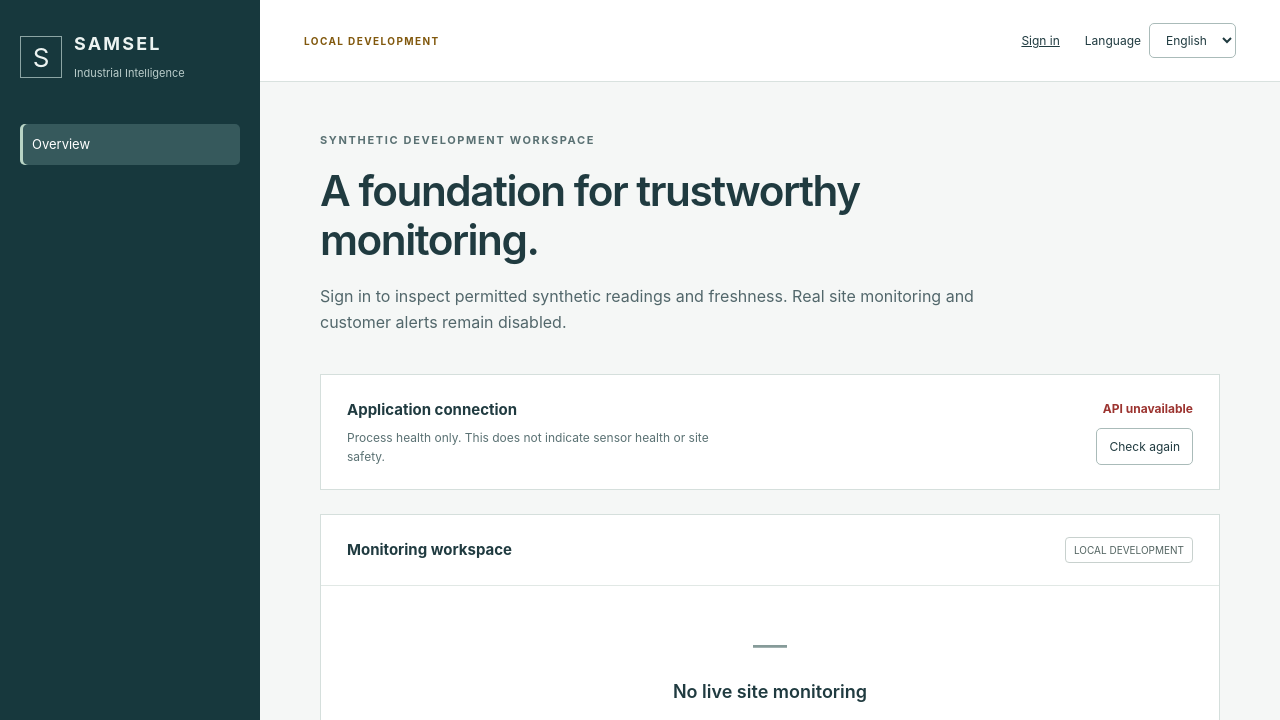
Scenario: network failure is explicit and retryable
Check: the text "API unavailable" is shown, box [1103,399,1193,418]
Click the button "Check again" at (1145, 446), box [1096,428,1193,465]
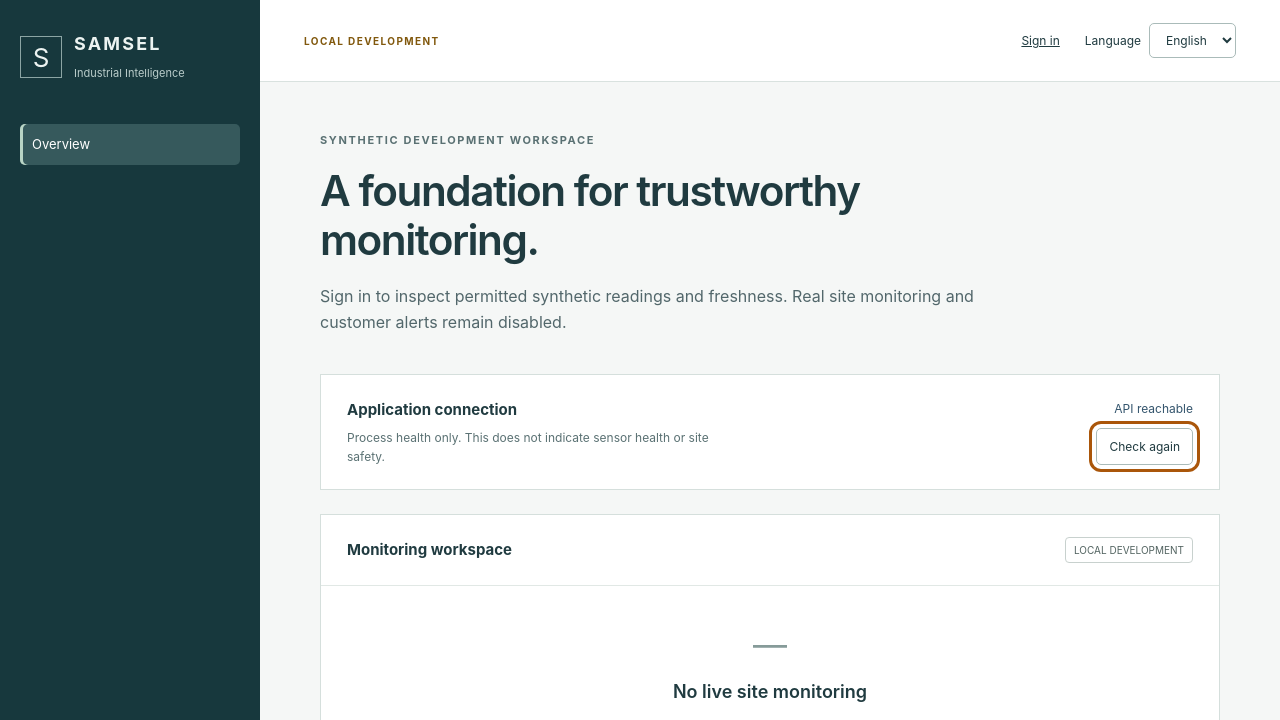
Check: the text "API reachable" is shown, box [1114,399,1193,418]
